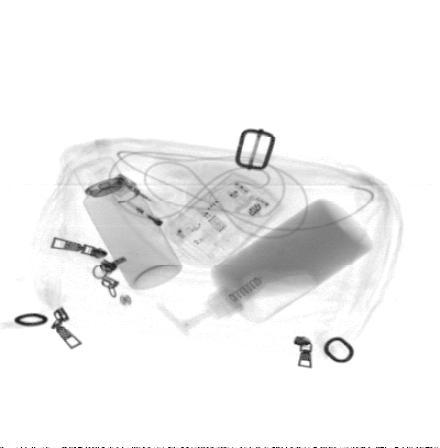Lighter: (99, 173, 202, 246)
Sprayer: (73, 154, 183, 290)
